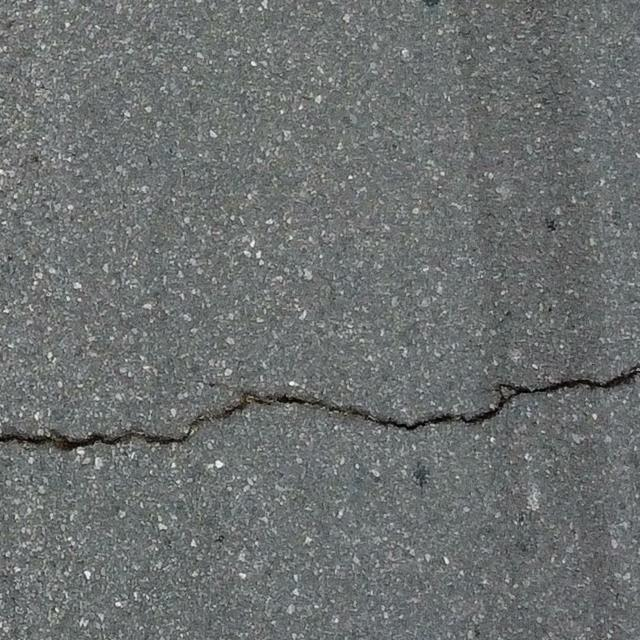TransverseCrack: (1, 366, 640, 452)
